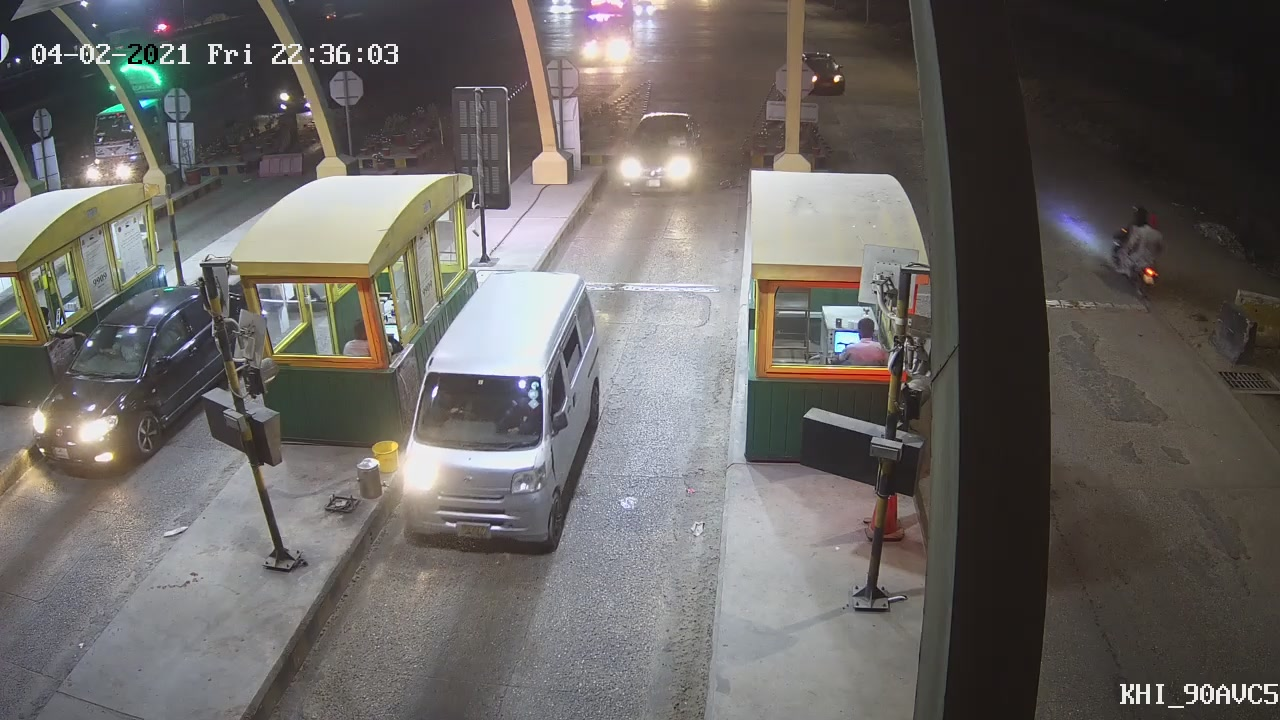F1: (399, 270, 602, 546)
